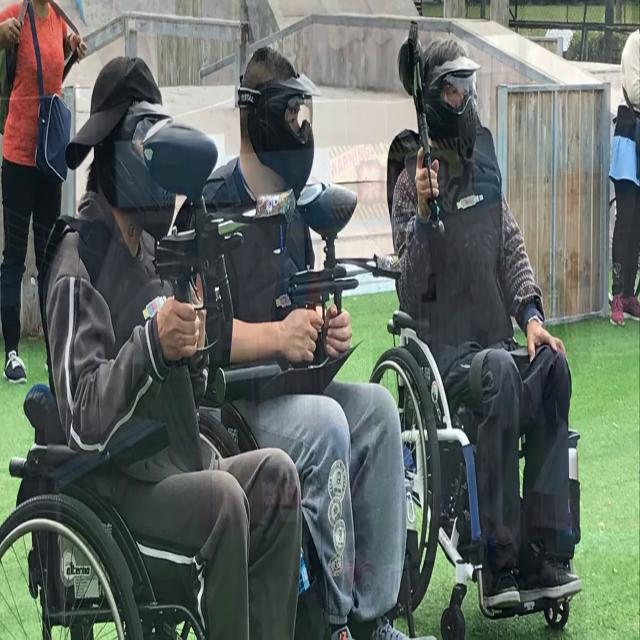wheelchairs: (362, 246, 596, 632), (0, 441, 298, 639)
